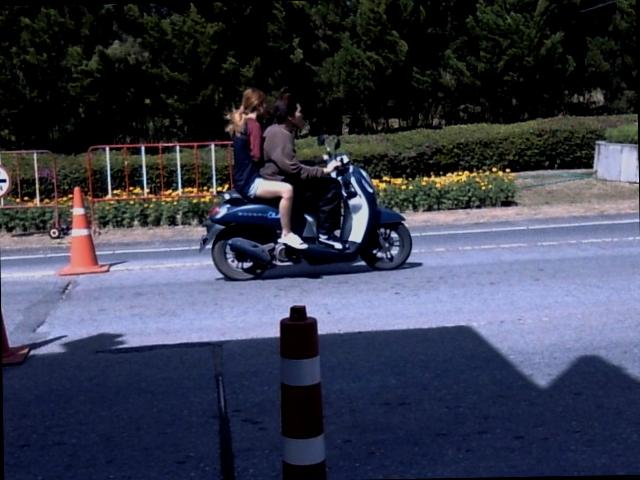motor: (199, 153, 411, 279)
no-helmet: (236, 88, 270, 122), (277, 93, 303, 125)
person: (260, 92, 345, 249), (225, 86, 305, 247)
